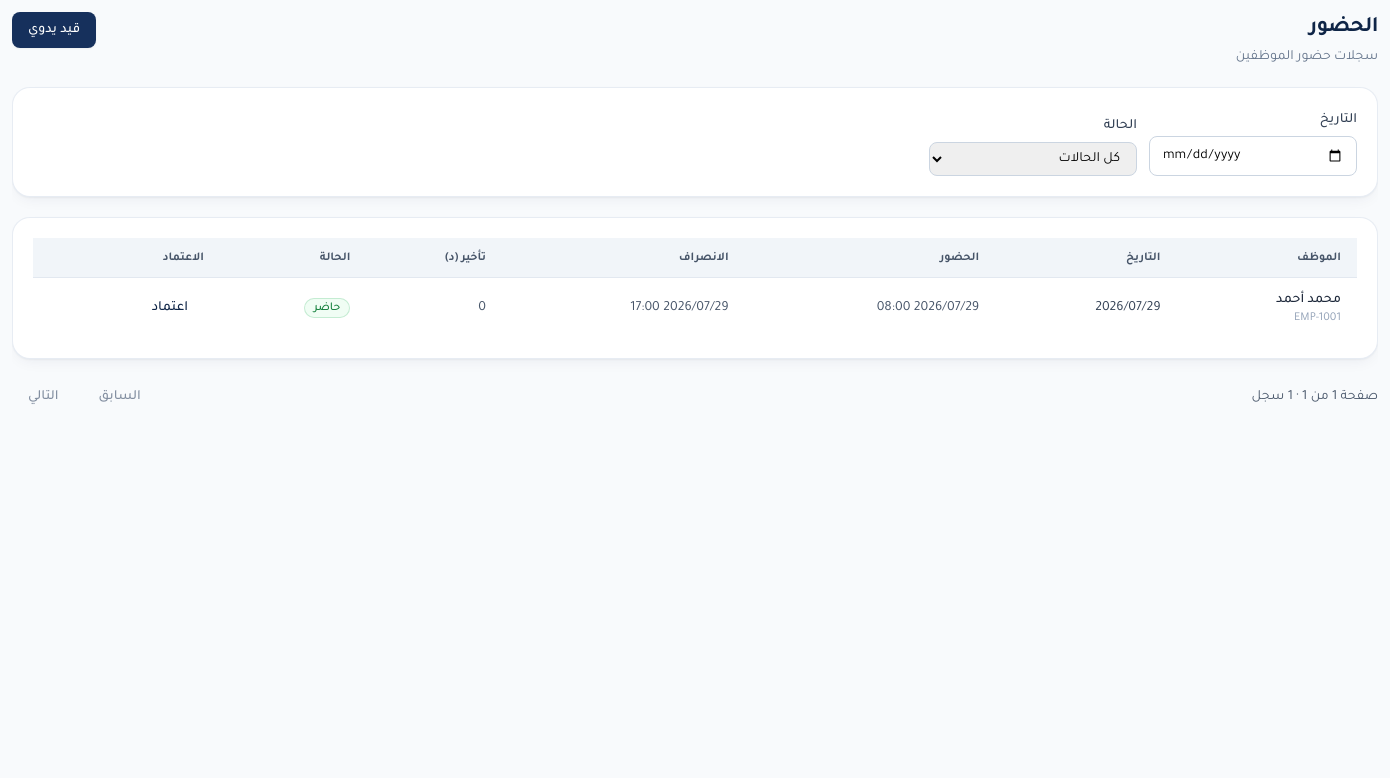
Test: HrAttendancePage › يسجّل قيداً يدوياً فيرسل POST manual
expect the text "محمد أحمد" is shown: met, box [1276,293,1341,307]
Click the button "قيد يدوي" at (54, 30), box [12,12,96,48]
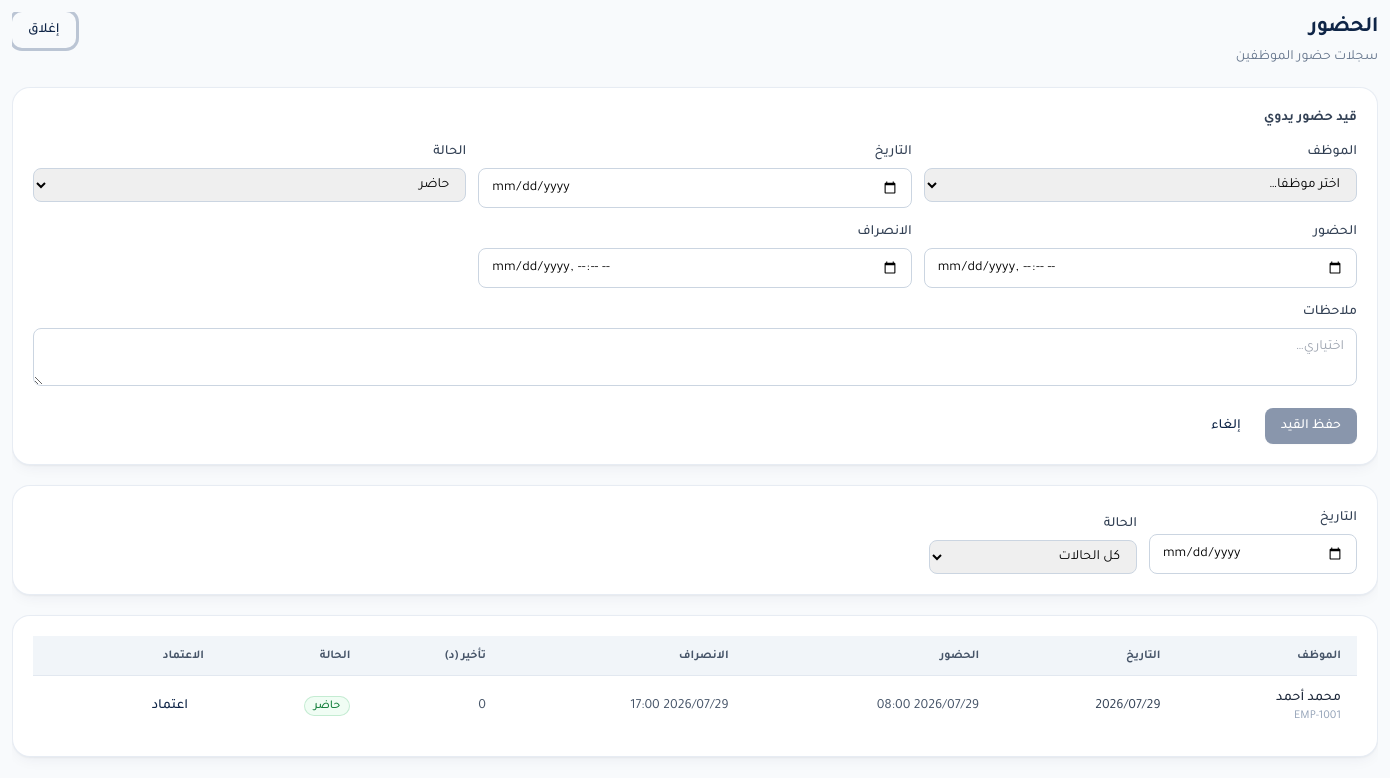
Select "محمد أحمد" in the dropdown labelled "الموظف" at (1140, 185), box [924,168,1357,202]
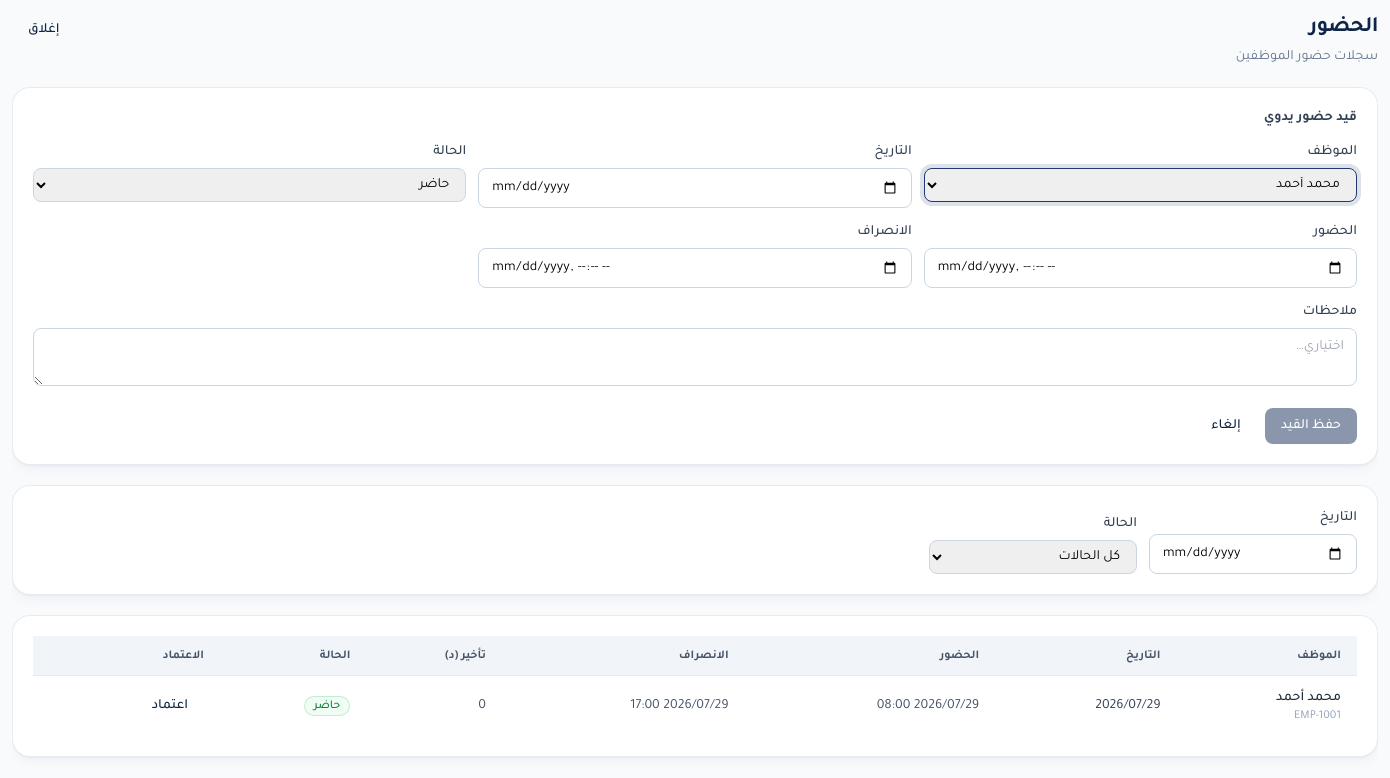
Type "2026-07-29" into the 1st date field labelled "التاريخ" at (695, 188), box [478,168,912,208]
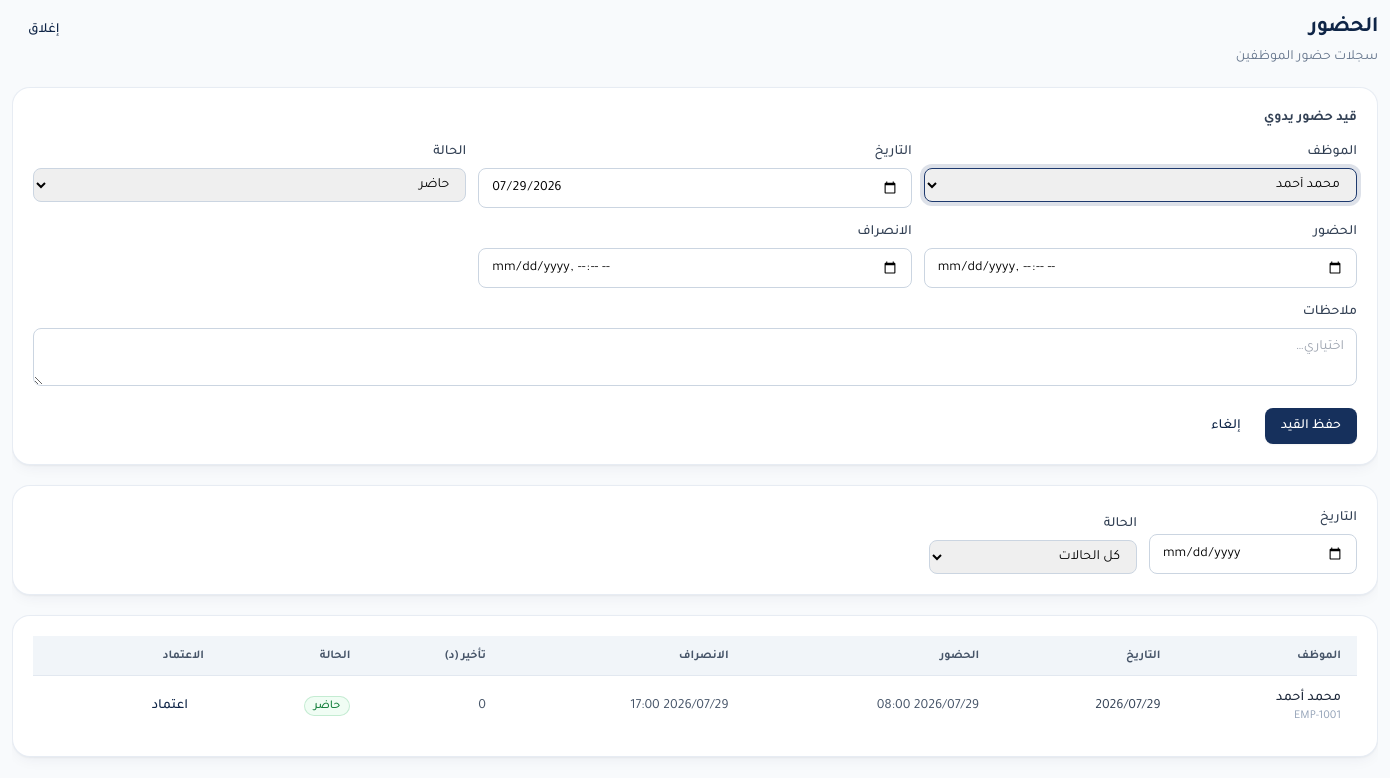
Click the button "حفظ القيد" at (1311, 426), box [1265,408,1357,444]
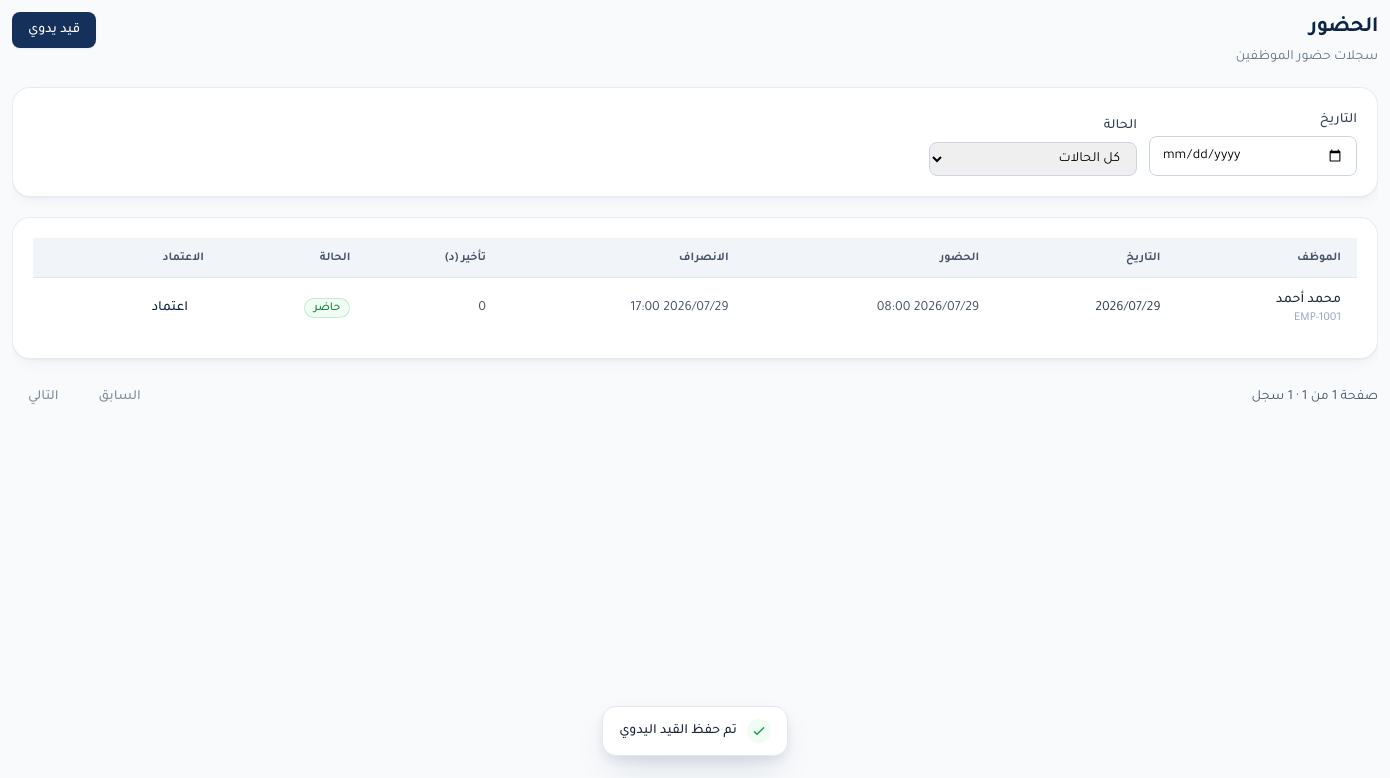
expect the text "تم حفظ القيد اليدوي" is shown: met, box [619,721,737,741]
